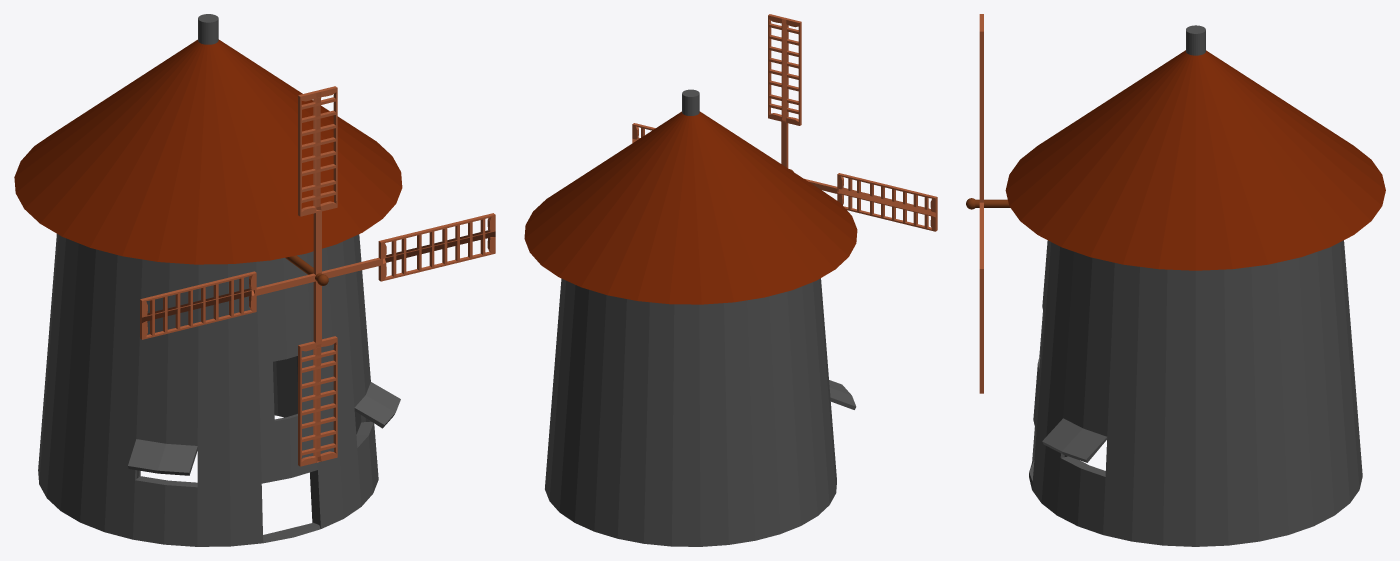
Rendered from Moulin.fbx.
3 renders of one model, left to right at view 1: azimuth 30°, elevation 25°; view 2: azimuth 150°, elevation 25°; view 3: azimuth 270°, elevation 25°, orthographic. The views are drawn at different scales.
Visible parts, largest first — view 1: Base, Toit, Moulin, Sommet; view 2: Base, Toit, Moulin; view 3: Base, Toit, Moulin, Sommet.
Part boxes in pixels (box(x1,y1,x2,y2)): Base: box(38, 234, 400, 546); Toit: box(14, 39, 402, 264); Moulin: box(140, 86, 495, 466); Sommet: box(198, 14, 218, 44); Base: box(545, 278, 856, 546); Toit: box(524, 111, 857, 304); Moulin: box(632, 14, 937, 231); Base: box(1029, 240, 1362, 546); Toit: box(1005, 50, 1385, 270); Moulin: box(979, 14, 983, 393); Sommet: box(1186, 25, 1205, 55).
Bounding box in the file's own units: 1131 × 1420 × 1190.
